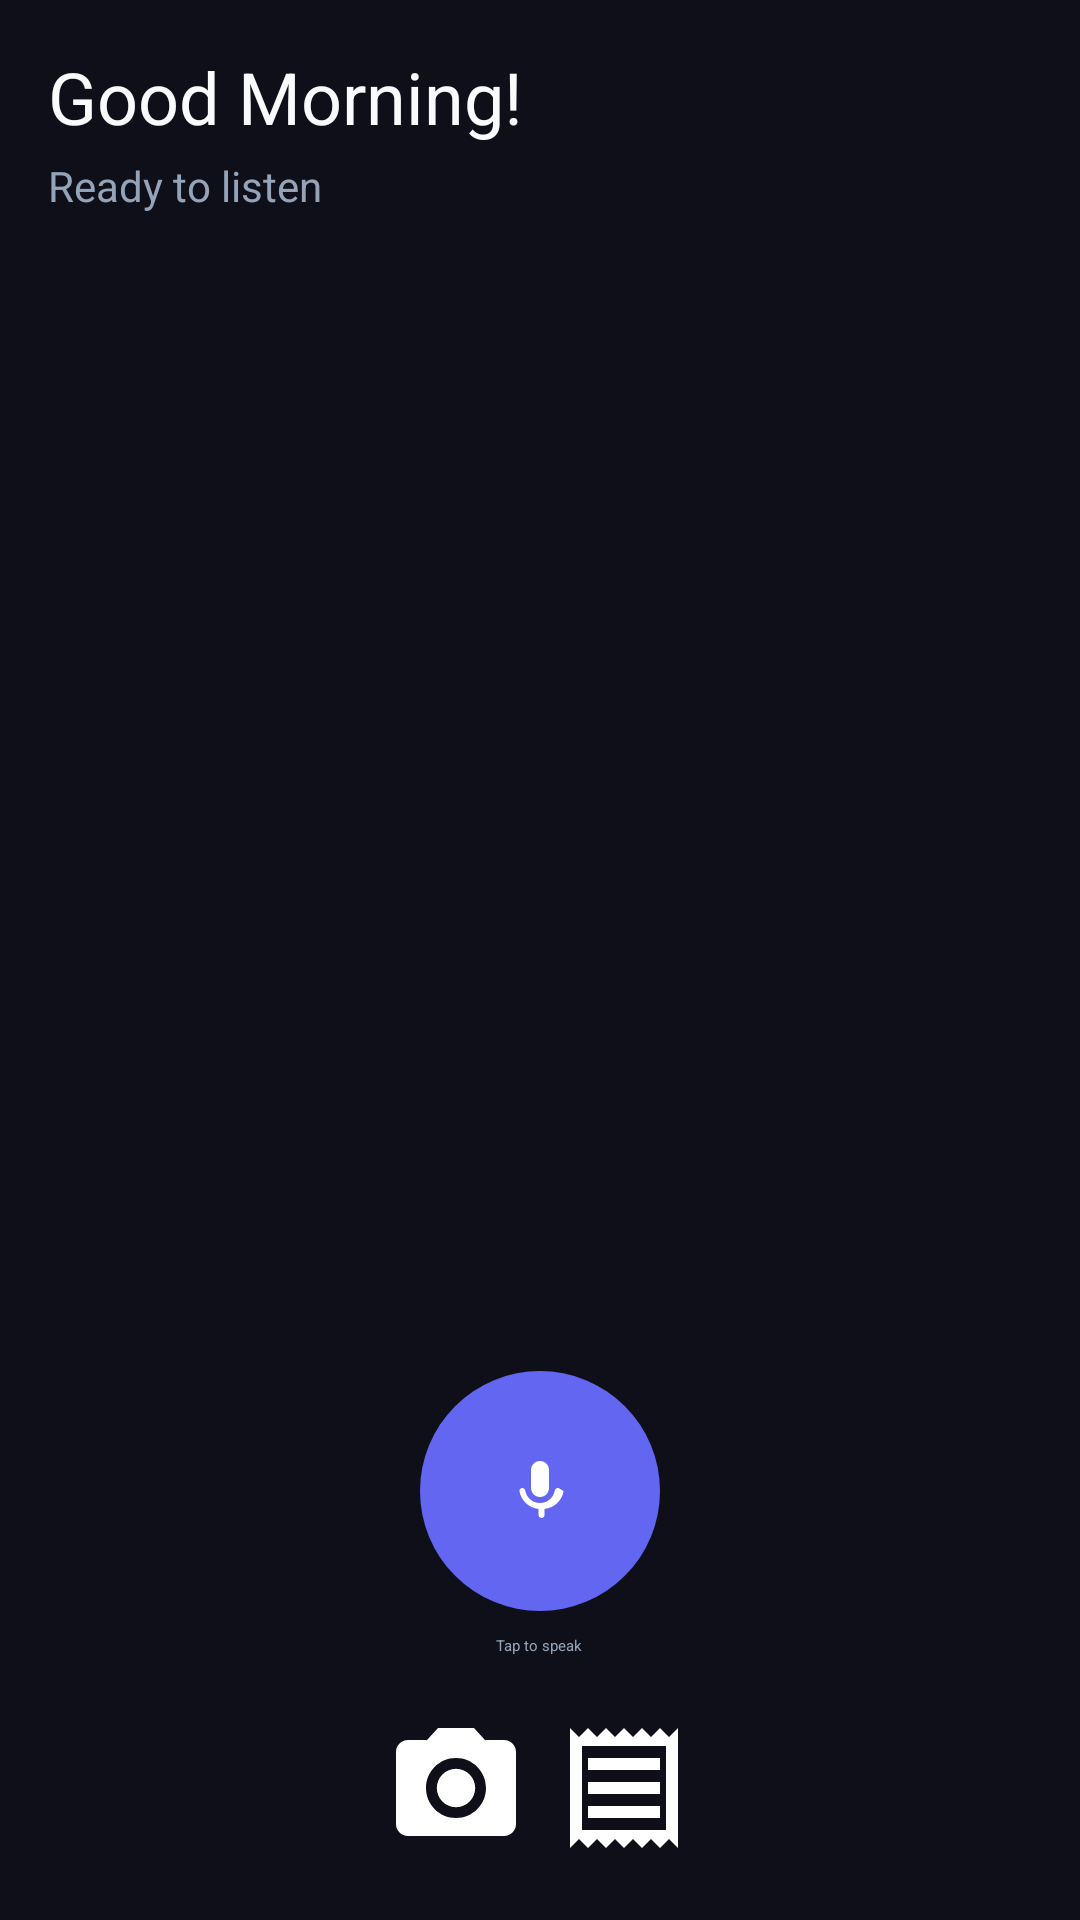

Where icons sit on this 1080*1920 app screen, as (x1, y1, x2, y2):
Camera: (396, 1728, 516, 1836)
